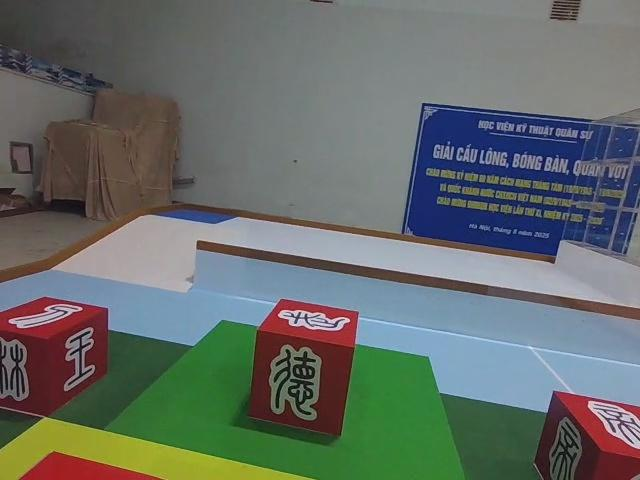R2 Fake: (249, 299, 359, 438), (0, 294, 110, 418), (533, 392, 640, 480)
